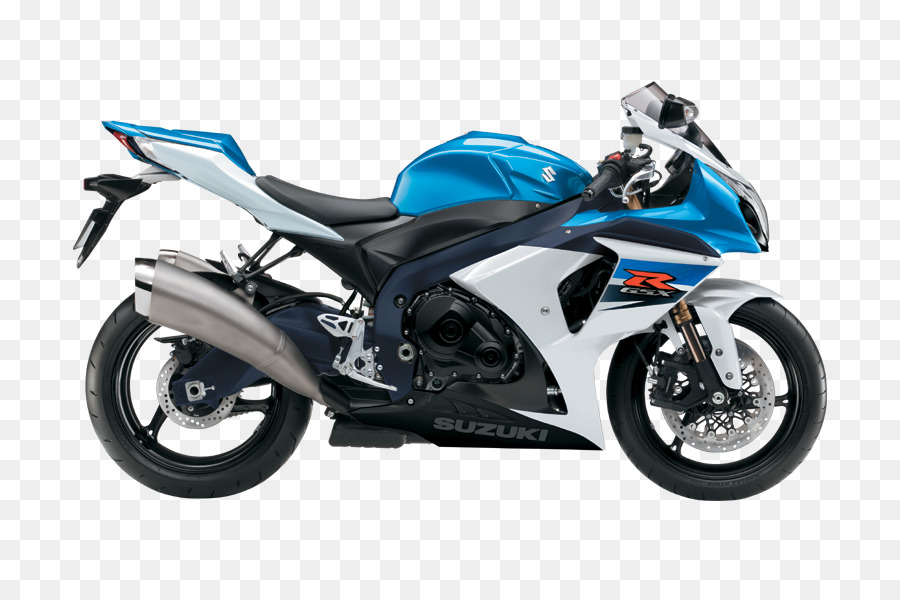motorcycle: (75, 90, 828, 501)
